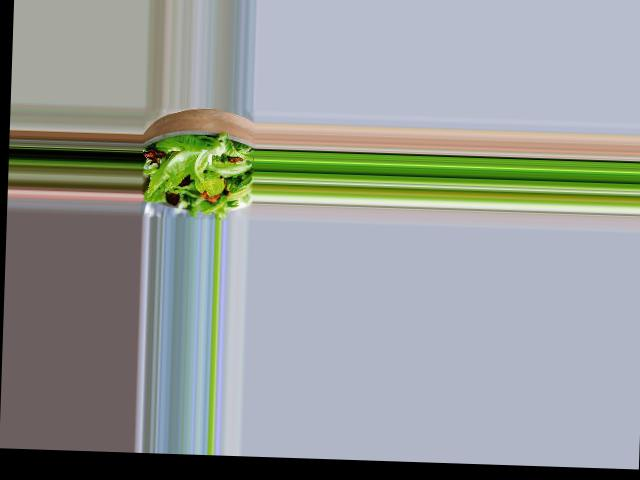lettuce: (151, 133, 248, 213)
